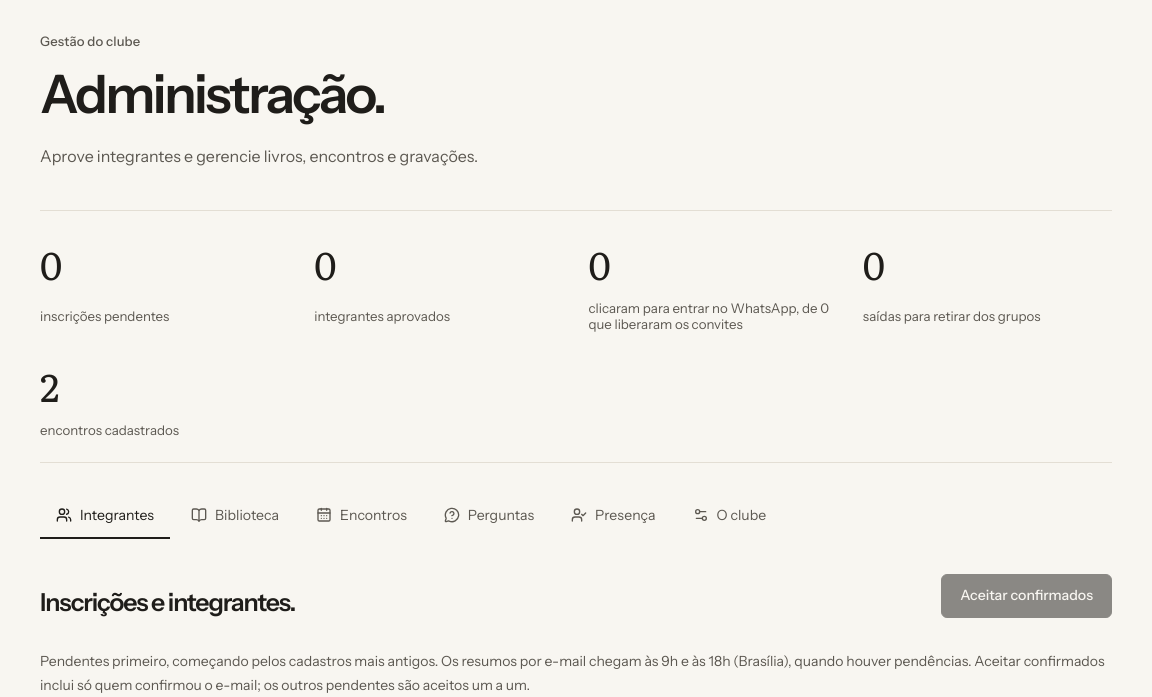
the panel copies the meeting page as the link for the group
Click the button "Encontros" at (361, 516), box [300, 493, 423, 539]
(page scrolled)
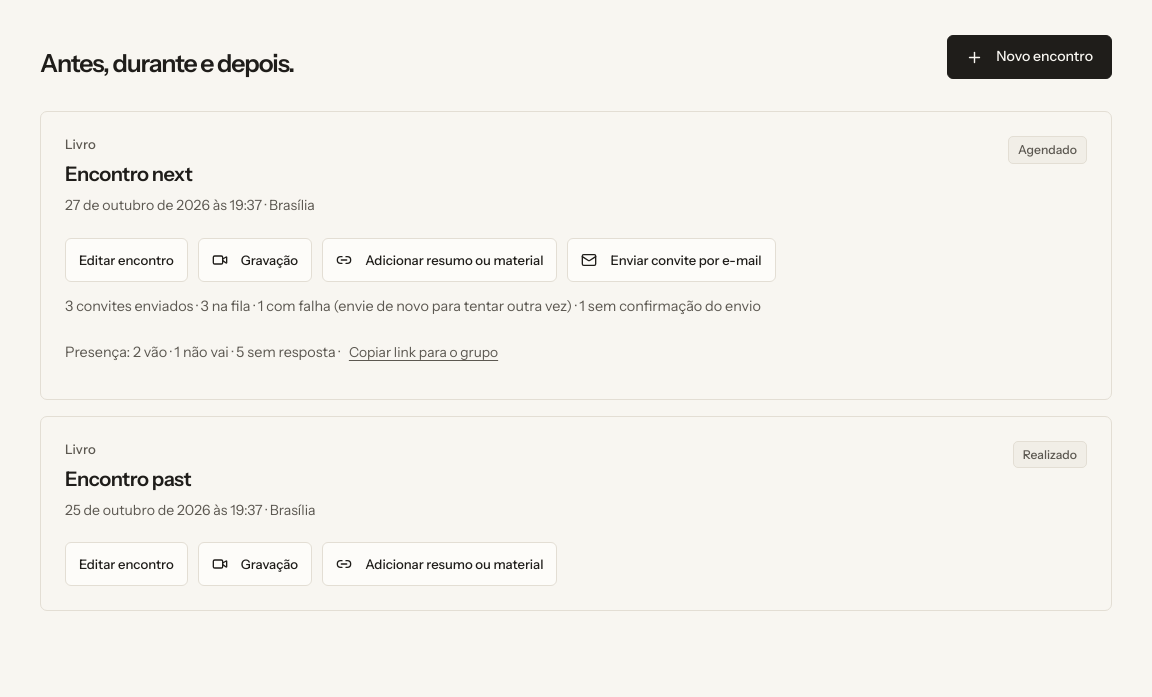
Click the button "Copiar link para o grupo" at (424, 352), box [343, 330, 504, 374]
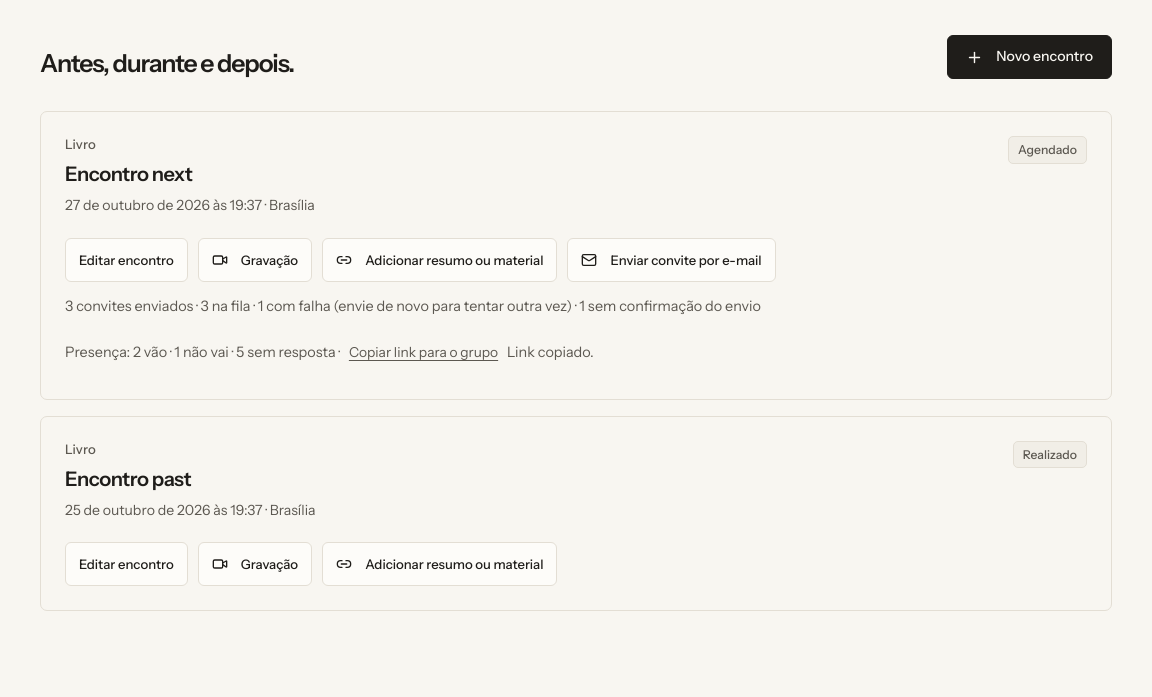
Now the text "Link copiado." is shown, box [504, 343, 594, 361]
